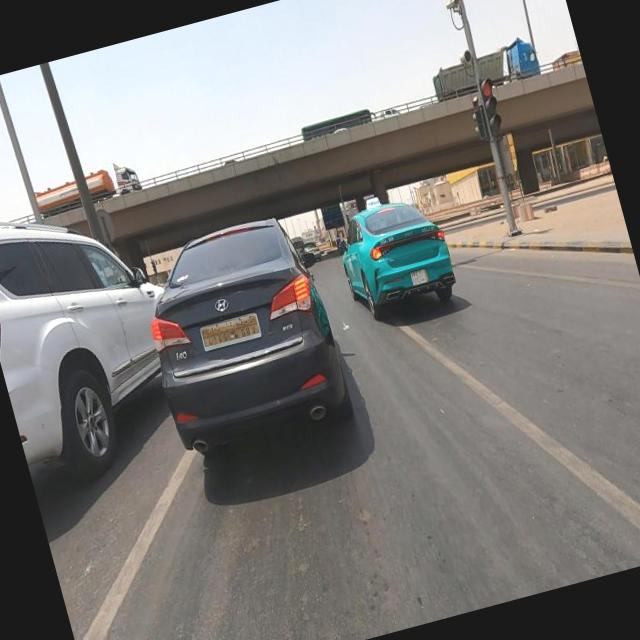debris: (326, 296, 368, 353)
